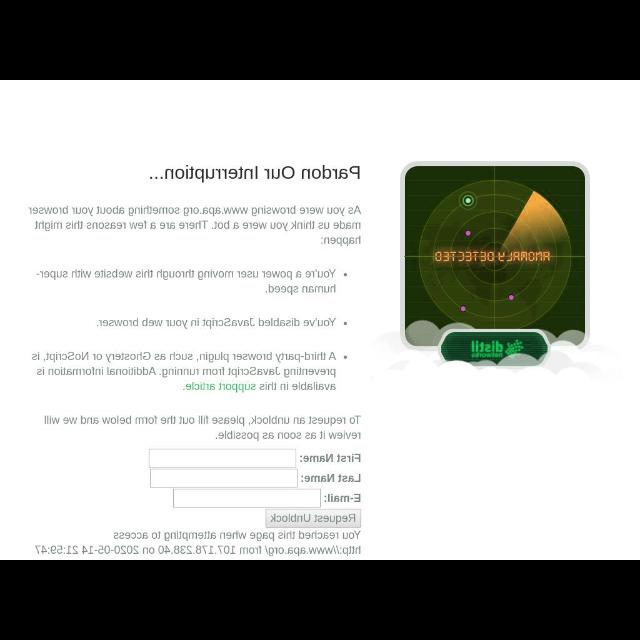image: (389, 158, 595, 368)
input: (172, 488, 322, 510), (148, 448, 298, 468), (148, 469, 298, 487)
link: (184, 380, 256, 392)
text: (24, 202, 364, 248), (25, 345, 349, 393), (42, 409, 364, 443), (32, 263, 348, 295), (33, 530, 360, 556), (90, 313, 348, 331), (147, 164, 361, 182), (298, 471, 362, 485), (270, 512, 356, 522), (300, 452, 360, 464), (324, 492, 362, 503)
textbutton: (266, 508, 360, 528)
